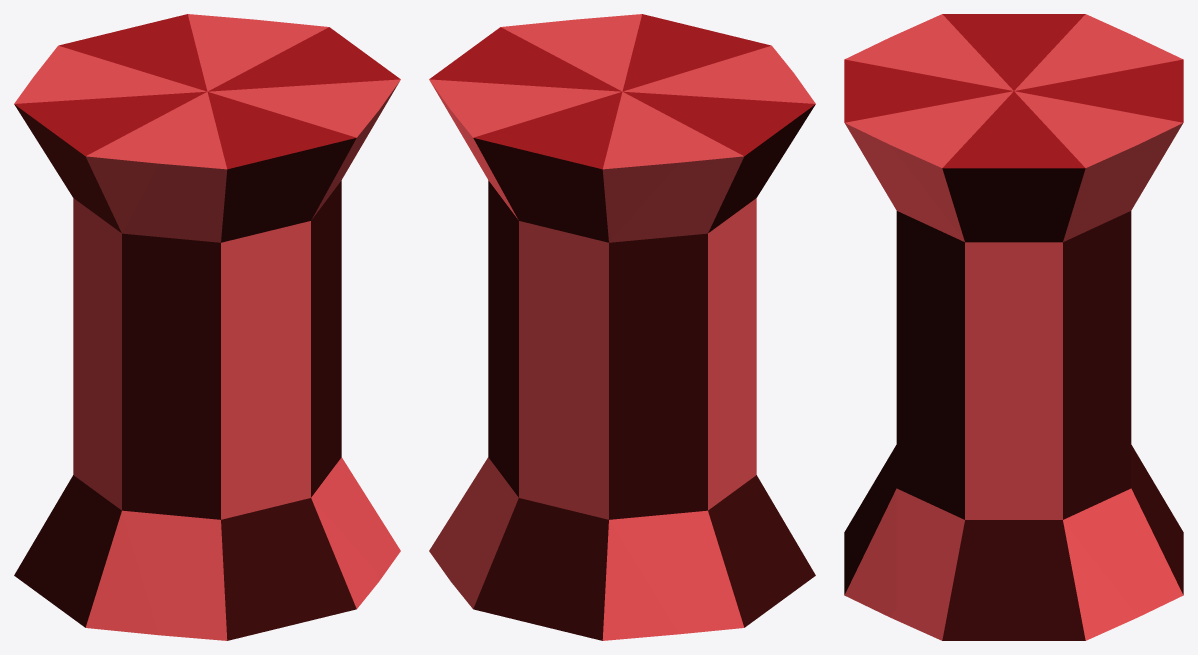
The picture shows the model from 3 angles, left to right: view 1: azimuth 30°, elevation 25°; view 2: azimuth 150°, elevation 25°; view 3: azimuth 270°, elevation 25°; orthographic projection.
Parts seen in each view (by area): view 1: ss3d_41_multiplexer; view 2: ss3d_41_multiplexer; view 3: ss3d_41_multiplexer.
Boxes of the visible parts, left/top/right/bottom form: ss3d_41_multiplexer: left=14, top=14, right=400, bottom=640; ss3d_41_multiplexer: left=429, top=14, right=815, bottom=640; ss3d_41_multiplexer: left=844, top=14, right=1183, bottom=640.
Bounding box in the file's own units: 0.3937 × 0.5625 × 0.3656.
Materials: 1 (1 with a texture image).
